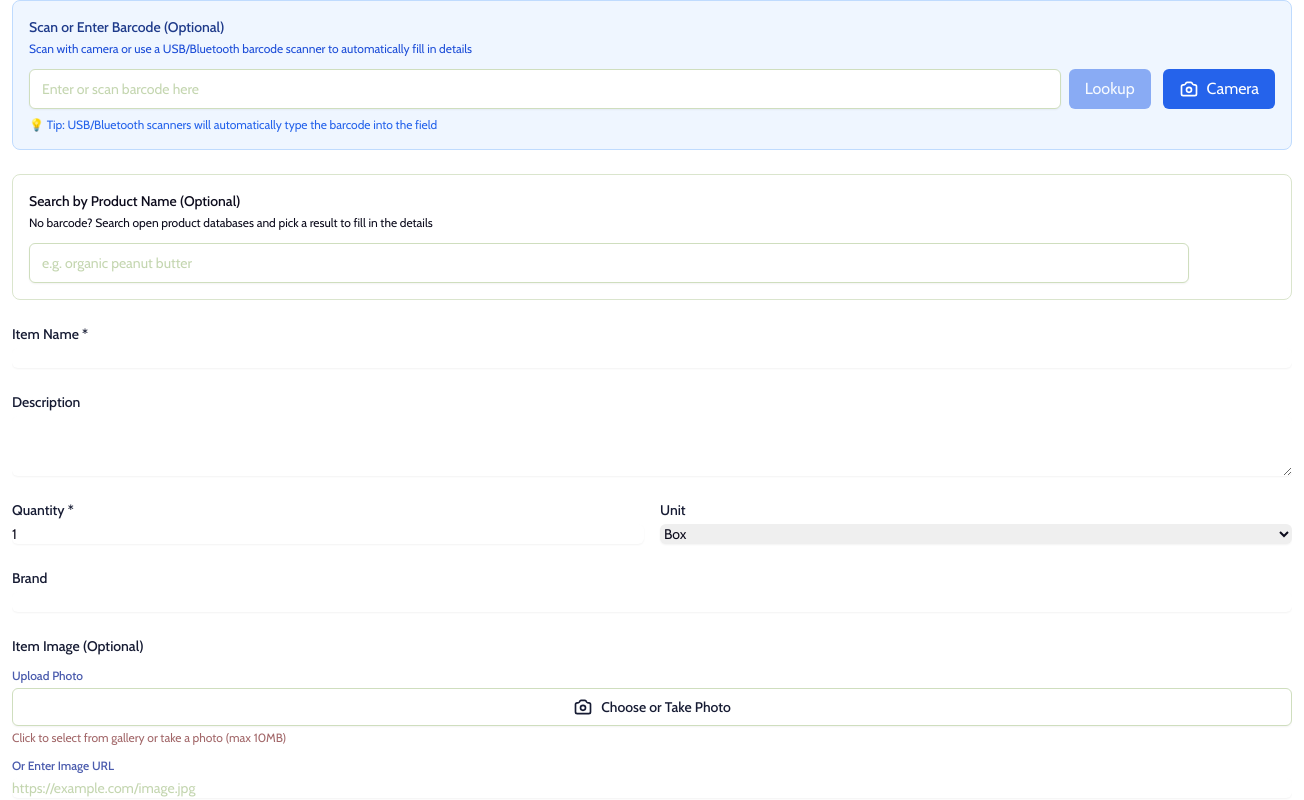
it: AddItemForm › shows a 404-specific message when the product is unknown
The width and height of the screenshot is (1304, 800).
In the field with placeholder "Enter or scan barcode here": (545,89) [29,69,1061,109], type "404"
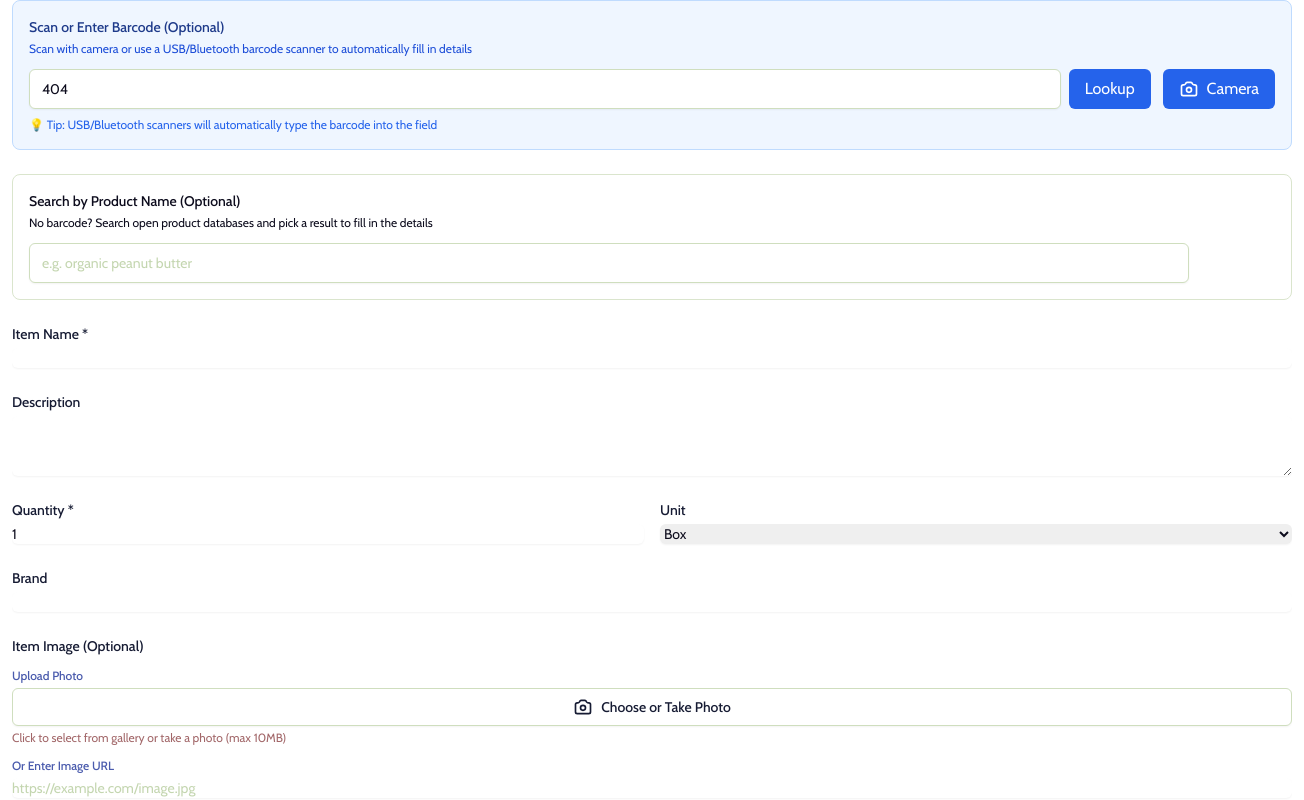
Click the button "Lookup": (1110,89) [1069,69,1151,109]
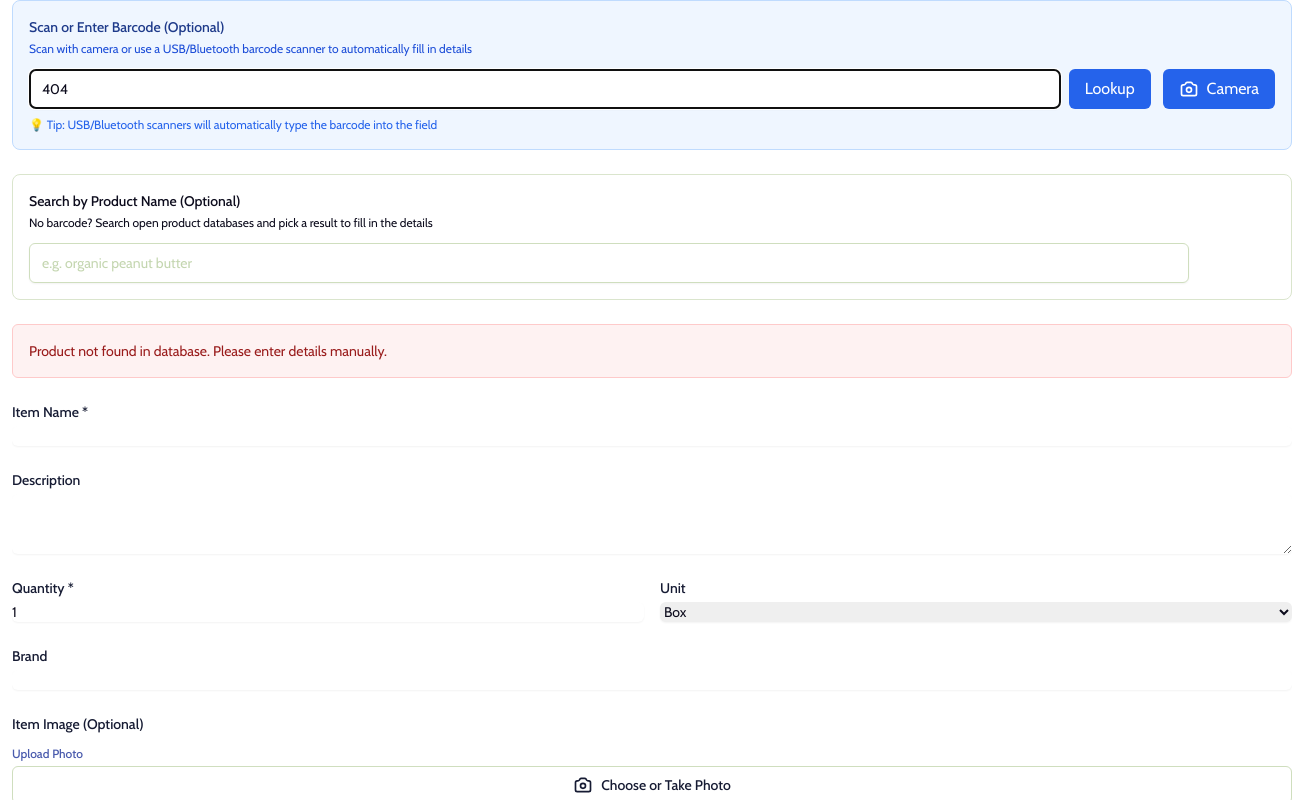
Now the text "Product not found in database" is shown, box [29,342,387,360]
